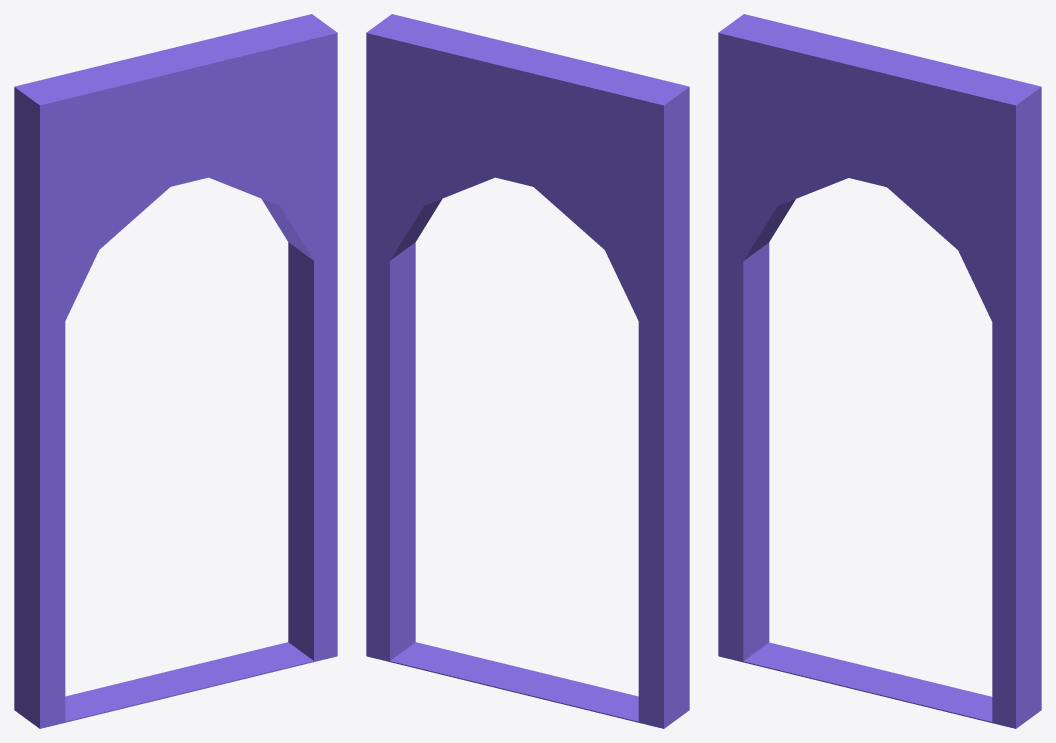
Rendered from PurpleDoorframe.glb.
3 renders of one model, left to right at view 1: azimuth 30°, elevation 25°; view 2: azimuth 150°, elevation 25°; view 3: azimuth 330°, elevation 25°, orthographic.
Visible parts, largest first — view 1: wallpurpledoor; view 2: wallpurpledoor; view 3: wallpurpledoor.
Boxes of the visible parts, x1,y1,x2,y2 form: wallpurpledoor: [14, 14, 337, 728]; wallpurpledoor: [366, 14, 689, 728]; wallpurpledoor: [718, 14, 1041, 728].
Size of what is drawn, in the model's own units: 2 by 4 by 0.3.
Materials: 1 (1 with a texture image).
